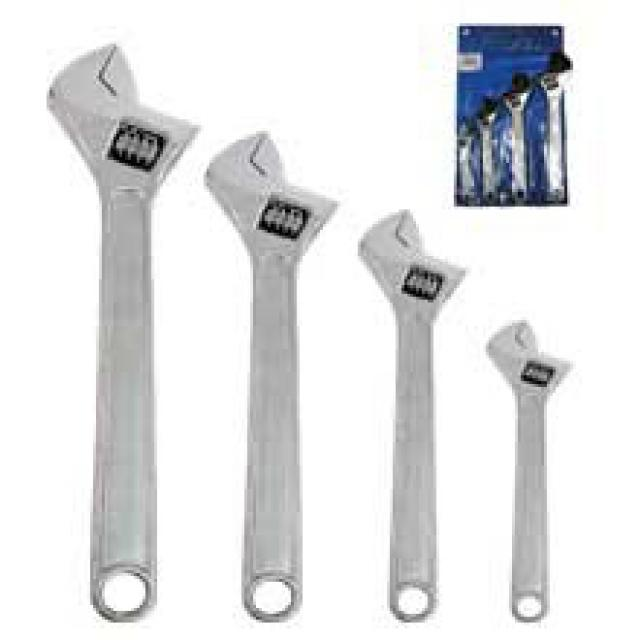wrench: (34, 37, 201, 630), (200, 116, 343, 630), (346, 206, 472, 629), (483, 312, 578, 626), (536, 48, 576, 205), (507, 68, 534, 212), (478, 90, 499, 211)
